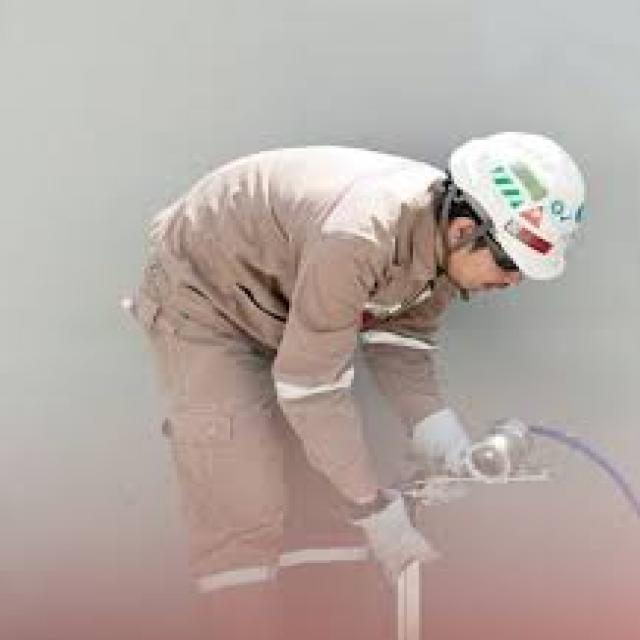safety_helmet: (436, 123, 601, 285)
